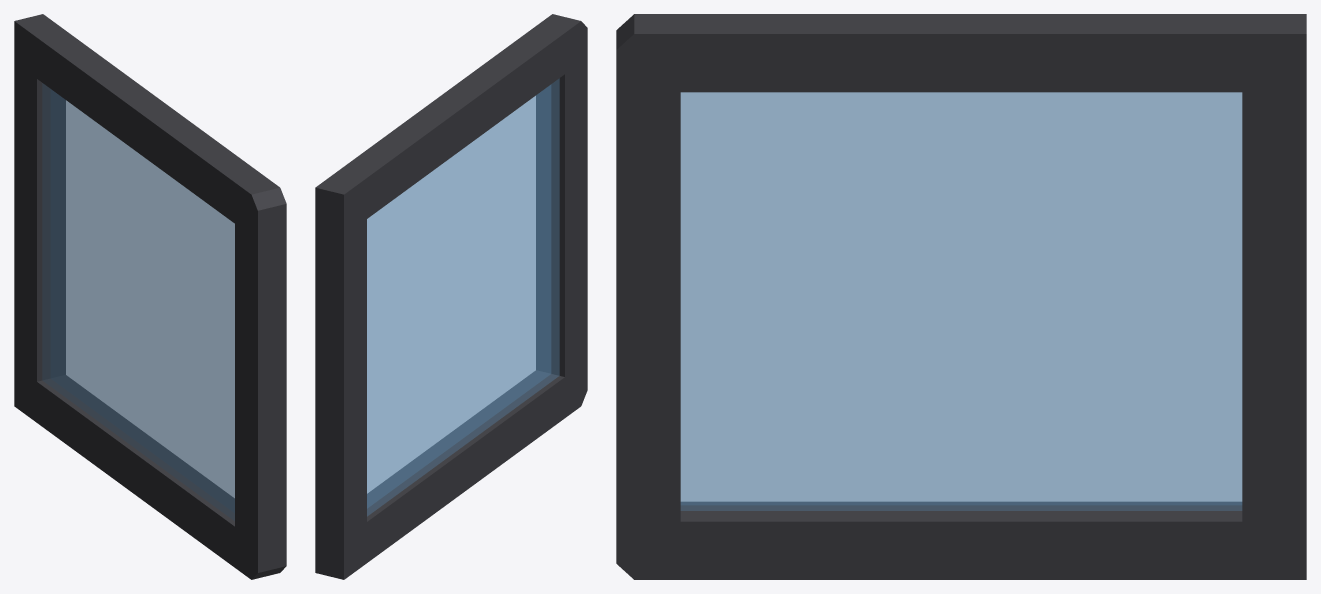
The model's file is Microwave Door.fbx.
3 views of the same model, side by side, from view 1: azimuth 30°, elevation 25°; view 2: azimuth 150°, elevation 25°; view 3: azimuth 270°, elevation 25° (orthographic). The views are drawn at different scales.
Visible parts, largest first — view 1: Microwave Door; view 2: Microwave Door; view 3: Microwave Door.
Part boxes in pixels (<box>): Microwave Door: <box>14,14,286,579</box>; Microwave Door: <box>315,14,587,579</box>; Microwave Door: <box>616,14,1306,579</box>.
Size of the model in its own units: 3.12 by 39.83 by 45.63.
